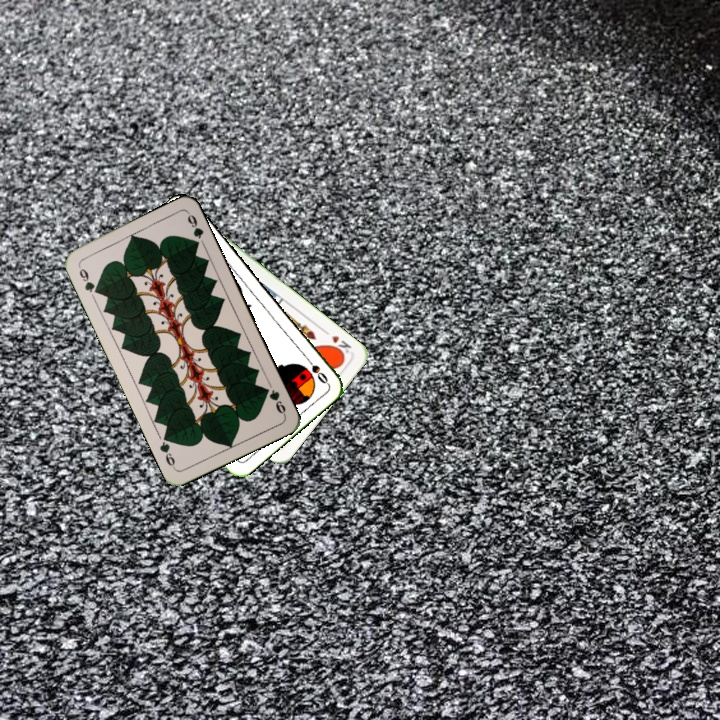G9: (259, 383, 288, 418), (74, 262, 102, 297)
HK: (326, 331, 354, 359)
SO: (301, 352, 331, 386)
